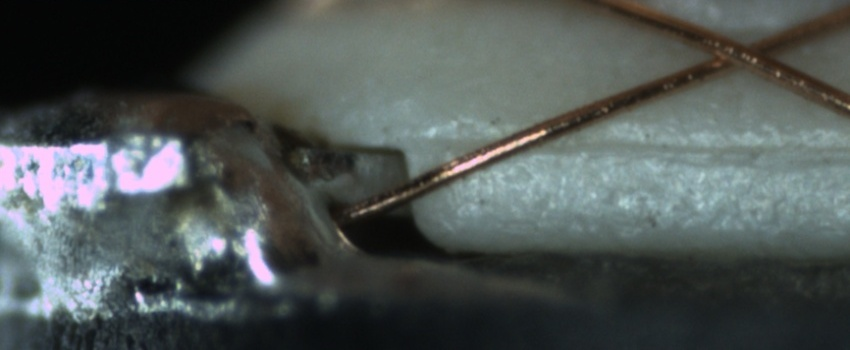CL: (691, 24, 791, 79)
DL: (415, 117, 850, 171)
